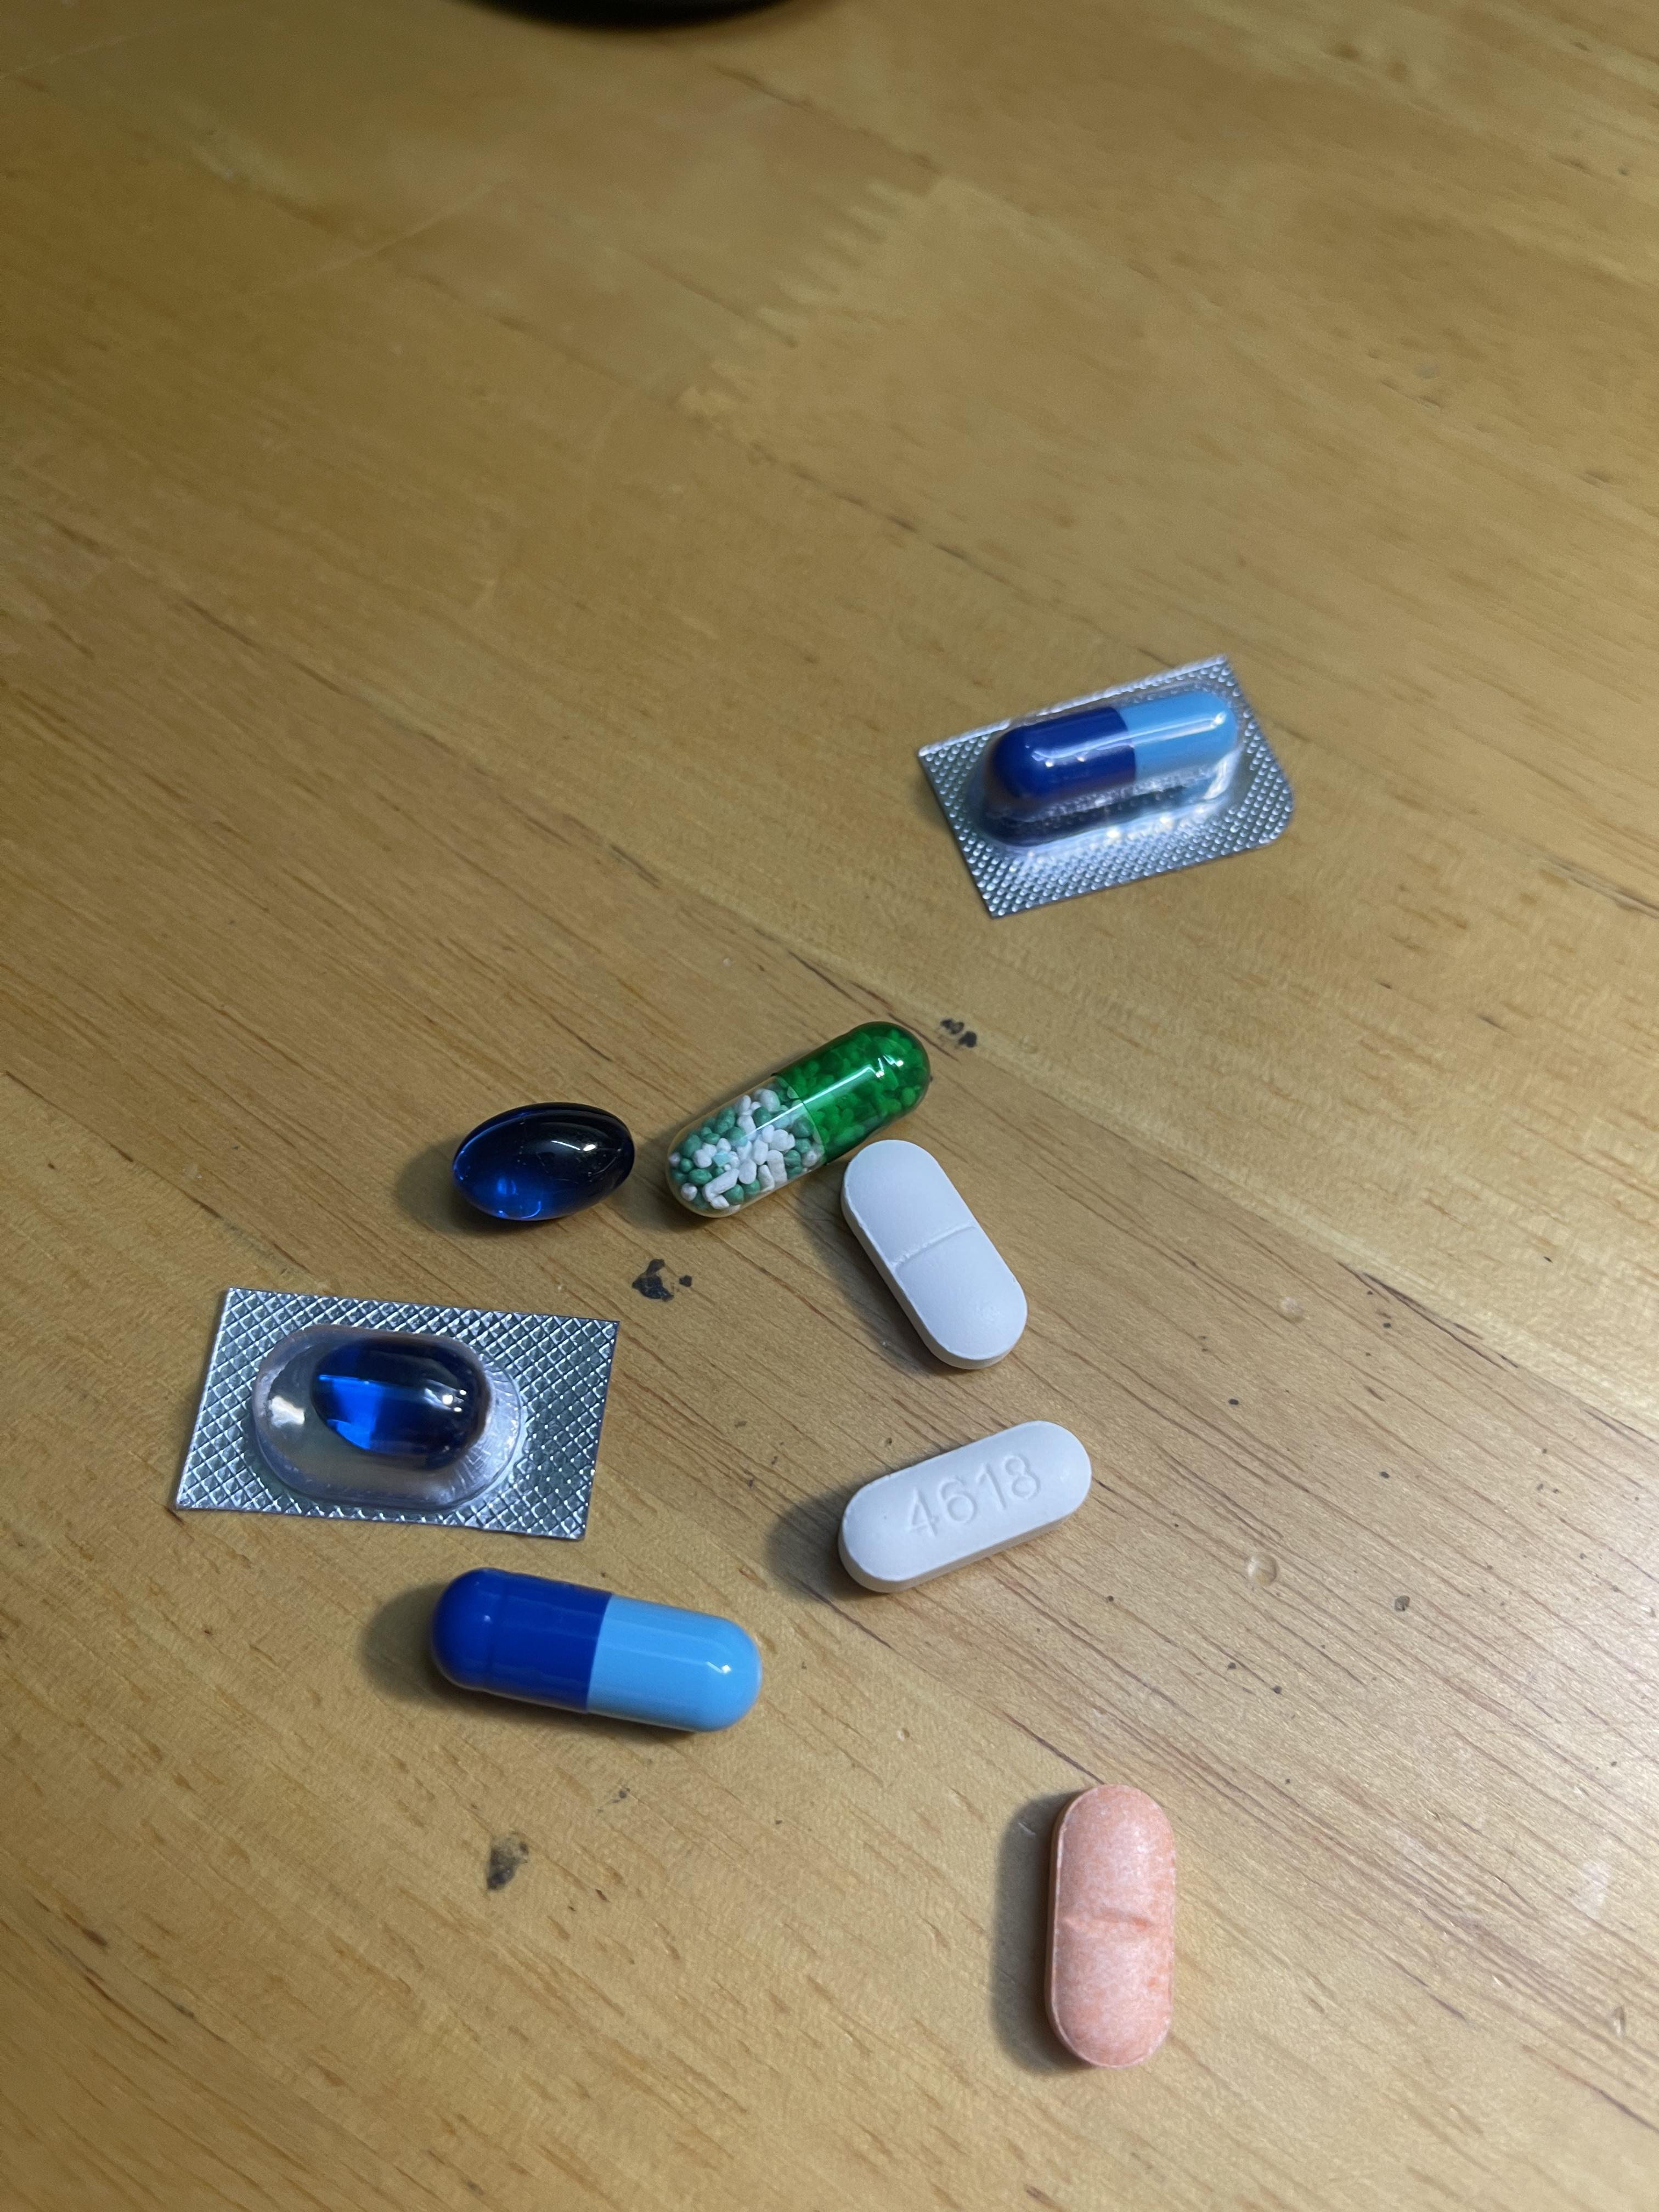Lincomyxin_500mg: (455, 1104, 638, 1221), (310, 1350, 481, 1460)
Loratadine_10mg: (1044, 1782, 1173, 2066)
Paracetamol_350mg: (840, 1137, 1025, 1364)
Paracetamol_500mg: (845, 1421, 1082, 1585)
Paracetamol_650mg: (676, 1024, 924, 1209)
pill: (436, 1580, 755, 1728), (992, 688, 1239, 838)
